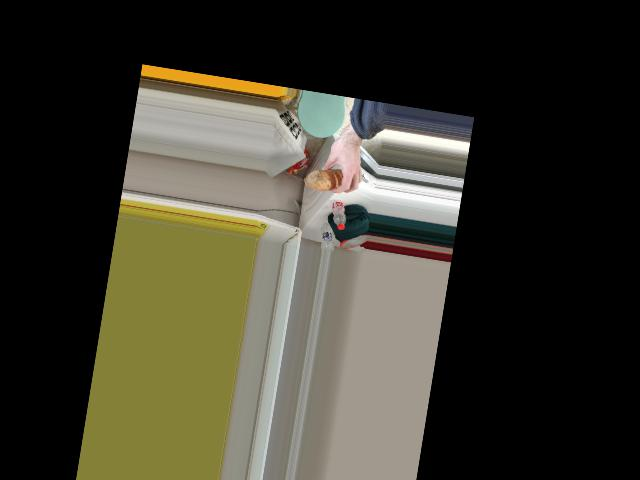sweet_potato: (312, 160, 348, 196)
